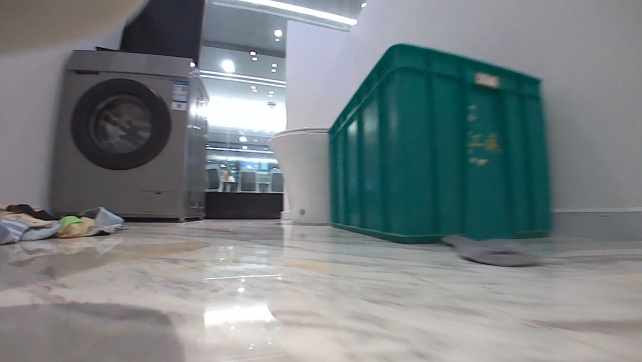toilet: (266, 126, 332, 226)
washing_machine: (46, 46, 210, 222)
